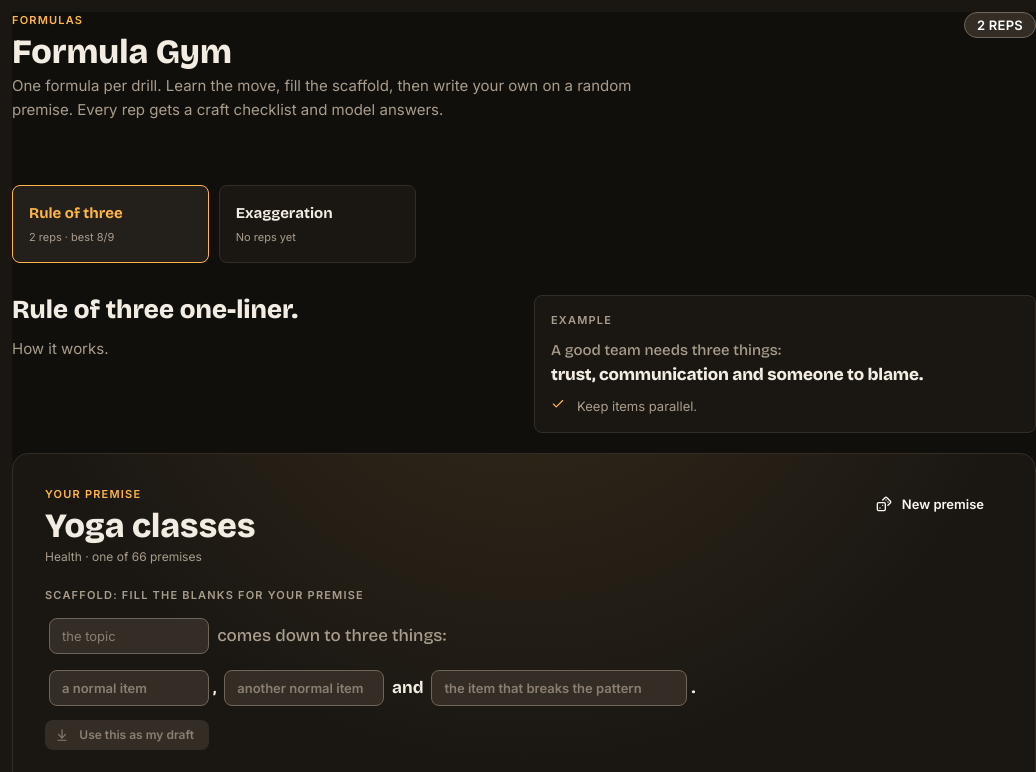
switching formula changes the drill
Click the tab "Exaggeration No reps yet".
click(317, 224)  # box [219,185,416,263]
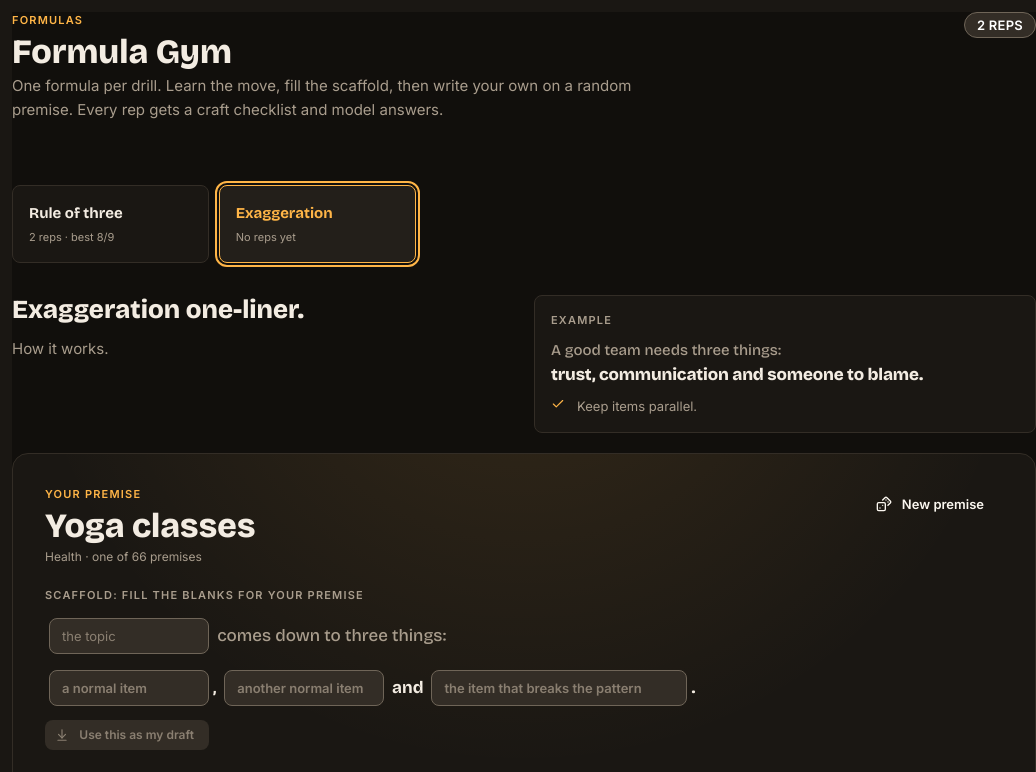
expect the text "Exaggeration one-liner." is shown: met, box [12,294,304,325]
